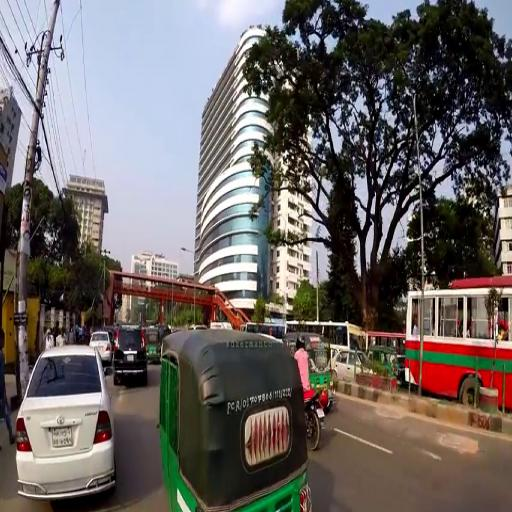bus: (406, 288, 512, 408), (284, 318, 364, 354), (367, 331, 406, 354), (246, 322, 286, 338)
car: (15, 346, 118, 501), (89, 331, 113, 361)
motorbike: (303, 386, 324, 451)
suv: (113, 325, 149, 384)
three wheelers (CNG): (158, 328, 315, 511), (287, 329, 334, 408), (146, 327, 159, 362)
